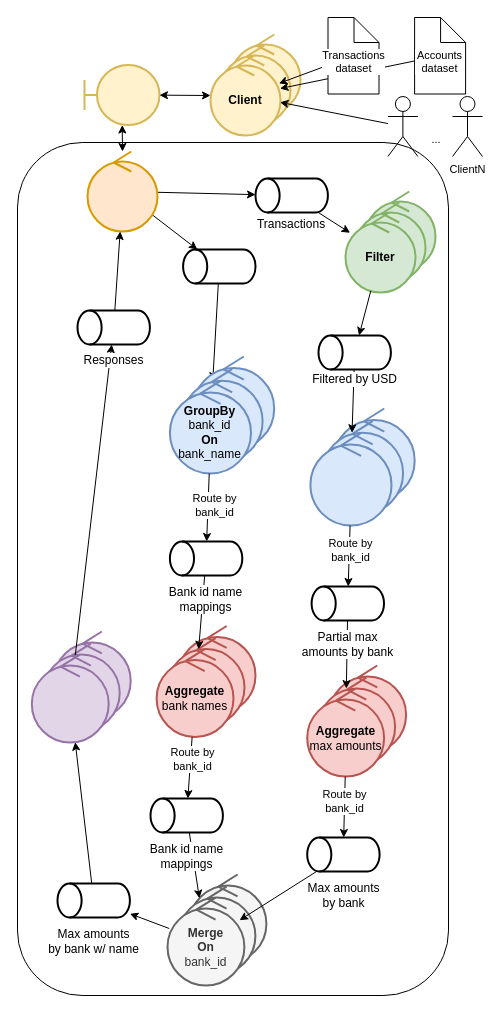
The diagram is 503 pixels wide and 1013 high, and some of its shapes have lost their labels. Each missing label, with the centre of its shape:
Accounts: (x=219, y=266)
Client1: (x=402, y=126)
Gateway: (x=122, y=191)
GroupBy bank Max amount: (x=350, y=478)
Join results By client: (x=69, y=698)
Socket TCP/IP: (x=121, y=95)
